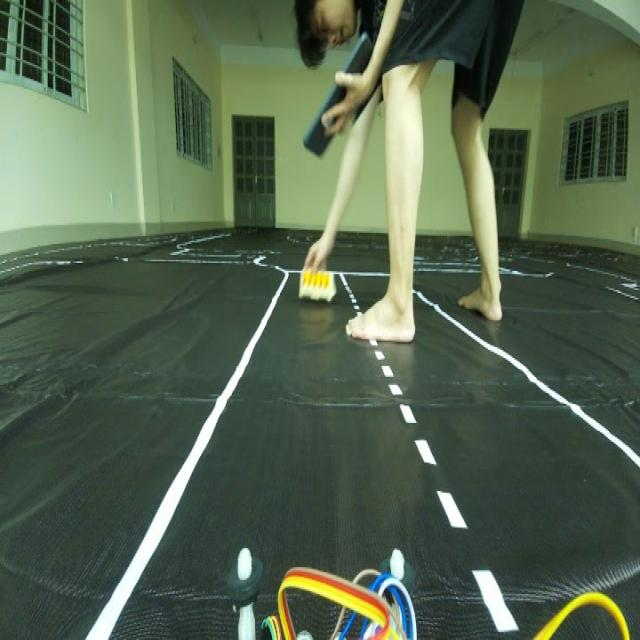roadblock: (297, 258, 341, 309)
